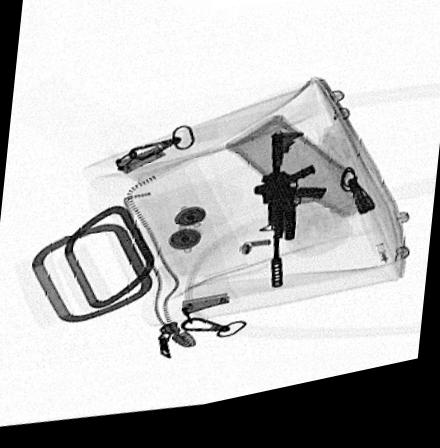Gun: (251, 143, 328, 299)
